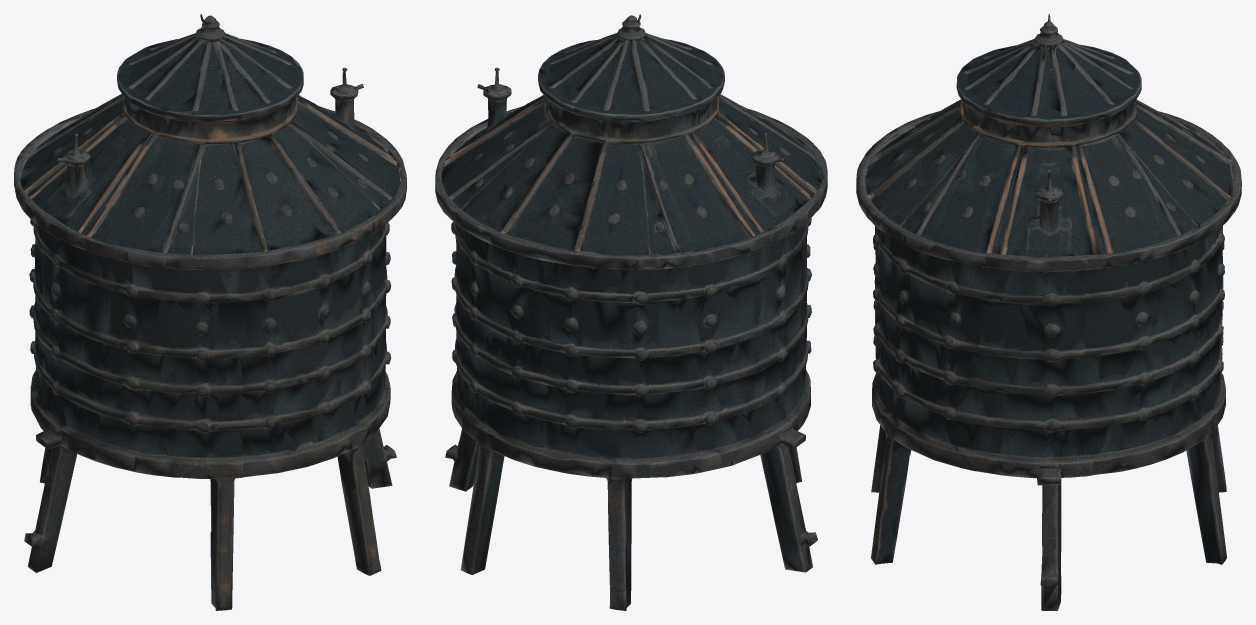
The model's file is heatsink_thermalWaterTower.2c76aeab.glb.
The picture shows the model from 3 angles, left to right: view 1: azimuth 30°, elevation 25°; view 2: azimuth 150°, elevation 25°; view 3: azimuth 270°, elevation 25°; orthographic projection.
Size of the model in its own units: 1.41 by 1.9 by 1.31.
1 material, 1 textured.
